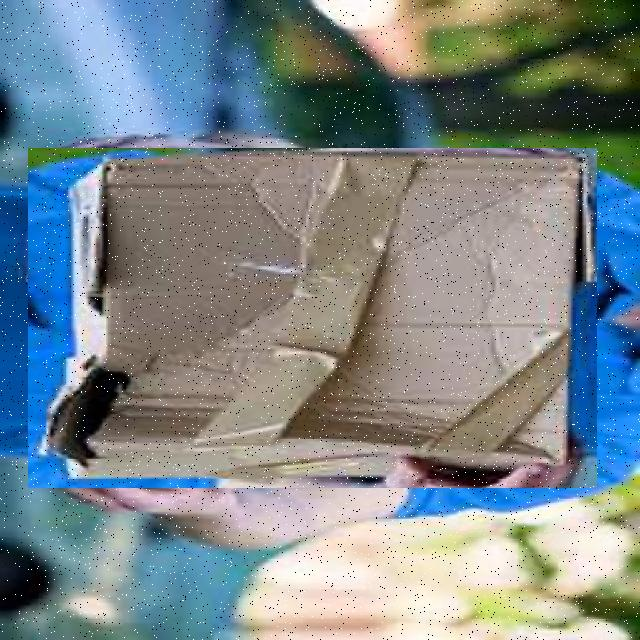defect: (28, 148, 597, 488)
